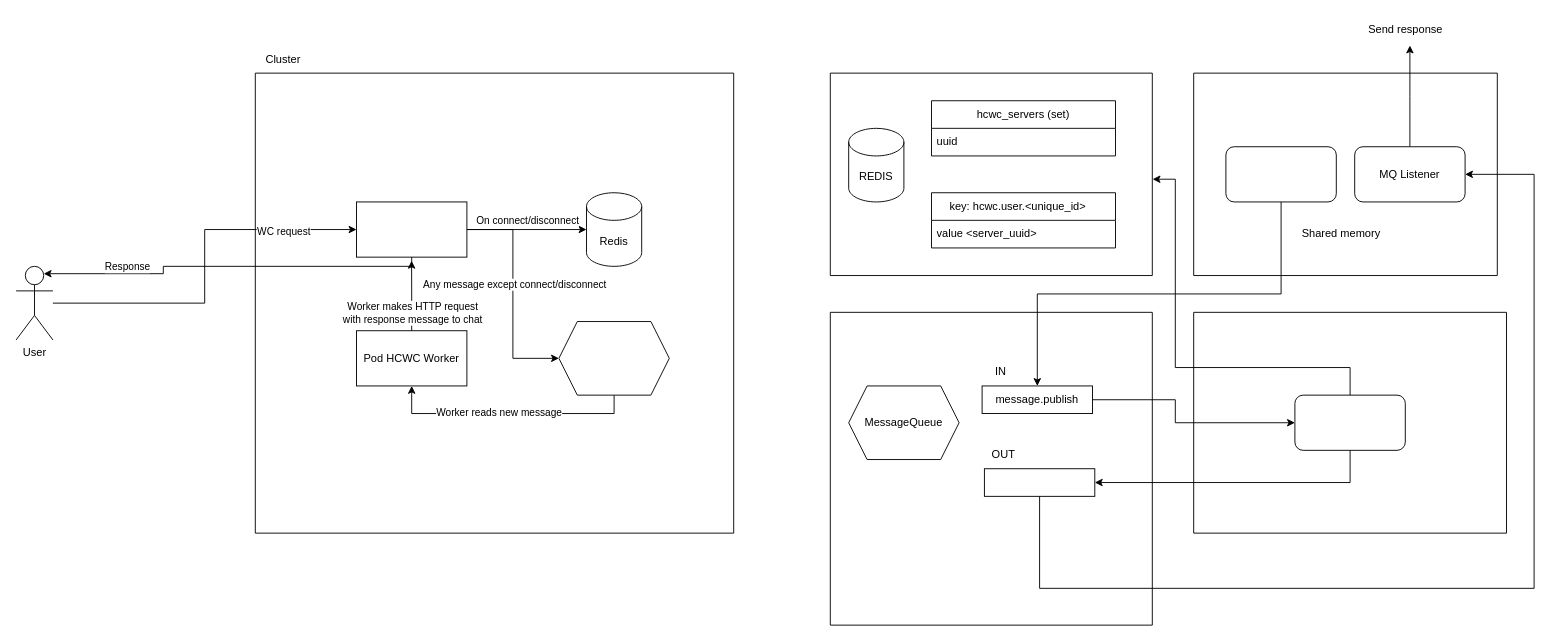
This 1558x641 diagram has some shape labels left out. Each missing label, with the centre of its shape:
API: pixel 1280 174
Message Queue: pixel 613 358
message.<server_uuid>.send: pixel 1039 482
Pod HCWC API: pixel 411 229
Worker: pixel 1349 422
